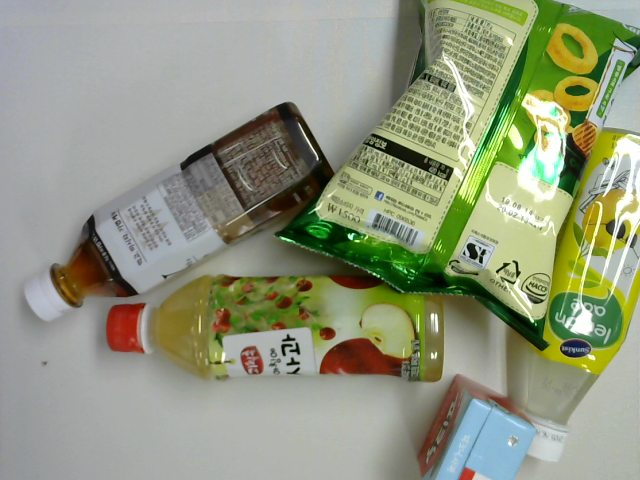Grilled_Onions: (275, 1, 640, 350)
Morning_Apple_500ml: (105, 269, 447, 381)
Picnic_Apple: (414, 372, 541, 480)
Post-meal_recipe_W_tea_500ml: (22, 100, 341, 332)
Sunkist_Lemonaid_Pet: (518, 126, 640, 461)
